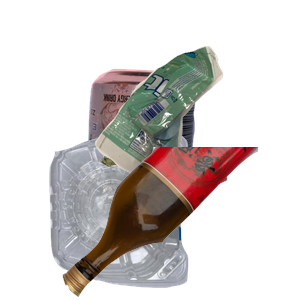glass: (60, 147, 300, 300)
metal: (82, 66, 270, 246)
plastic: (46, 130, 227, 300)
trash: (92, 44, 300, 211)
